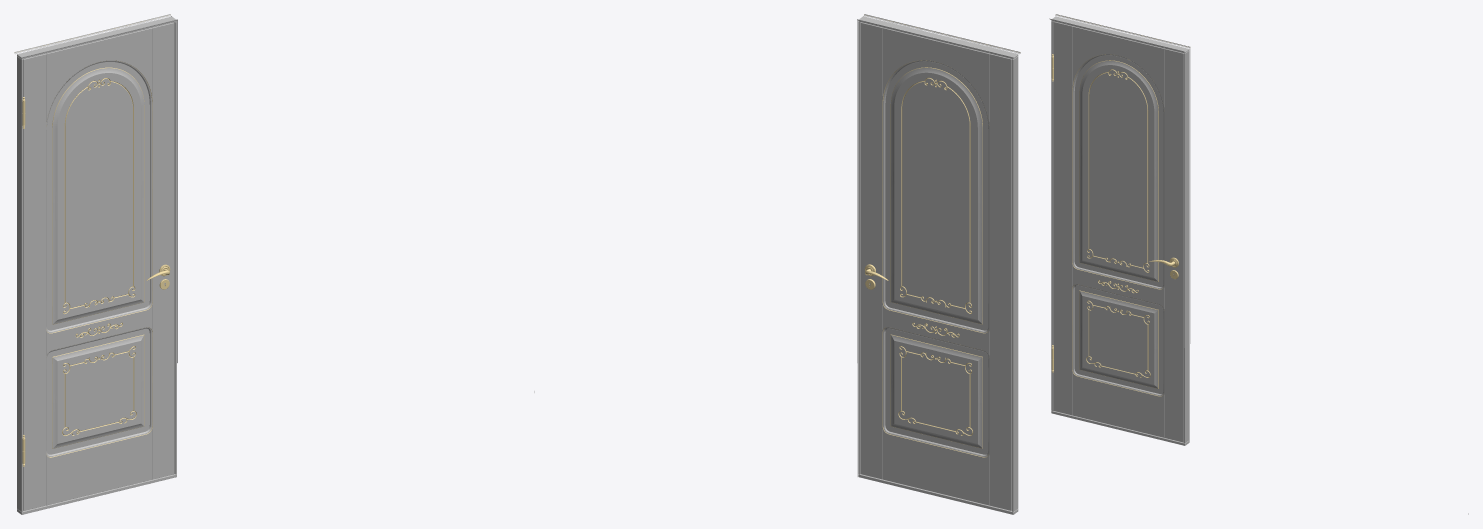
The model's file is adsa.fbx.
3 views of the same model, side by side, from view 1: azimuth 30°, elevation 25°; view 2: azimuth 150°, elevation 25°; view 3: azimuth 330°, elevation 25° (orthographic). The views are drawn at different scales.
Visible parts, largest first — view 1: Door 2; view 2: Door 2; view 3: Door 2.
Boxes of the visible parts, <box> form: Door 2: <box>14,14,177,514</box>; Door 2: <box>534,14,1020,514</box>; Door 2: <box>1049,14,1468,514</box>.
Bounding box in the file's own units: 88537 × 79965 × 5661.
